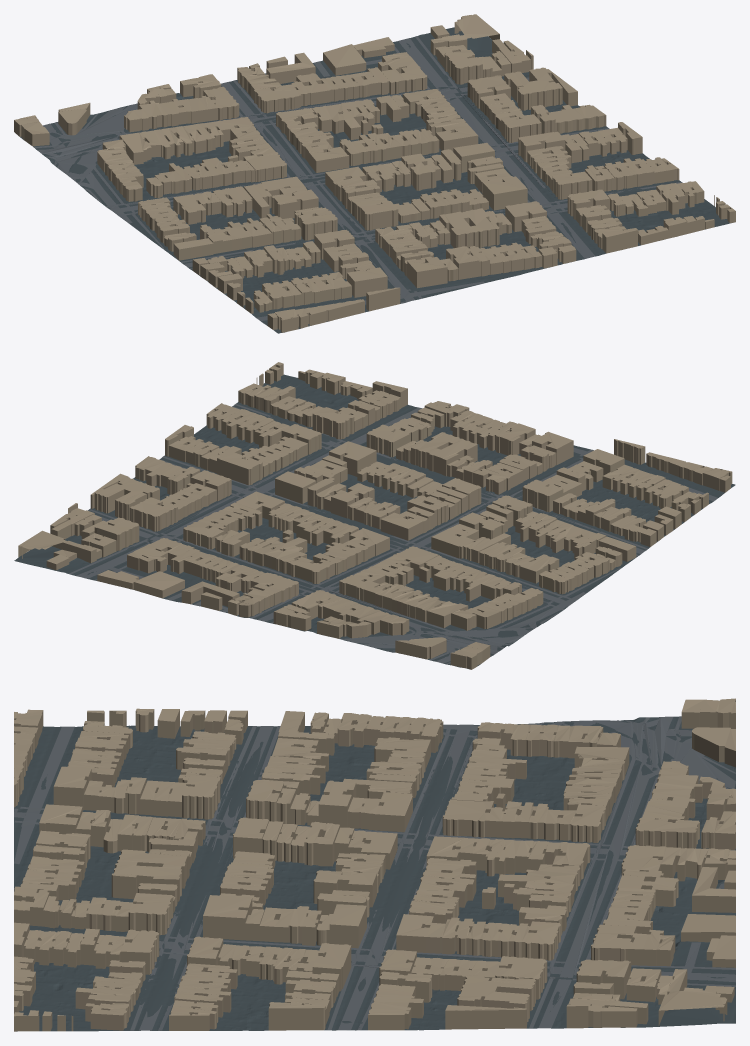
Rendered from epsg26910-1429-10895.lod0.glb.
3 renders of one model, top to bottom at view 1: azimuth 30°, elevation 25°; view 2: azimuth 150°, elevation 25°; view 3: azimuth 270°, elevation 25°, orthographic. The views are drawn at different scales.
Visible parts, largest first — view 1: epsg26910-1429-10895-lod0; view 2: epsg26910-1429-10895-lod0; view 3: epsg26910-1429-10895-lod0.
Boxes of the visible parts, x1,y1,x2,y2 form: epsg26910-1429-10895-lod0: (14, 14, 735, 333); epsg26910-1429-10895-lod0: (14, 362, 735, 669); epsg26910-1429-10895-lod0: (14, 698, 735, 1031).
Bounding box in the file's own units: 384 × 17.13 × 384.
